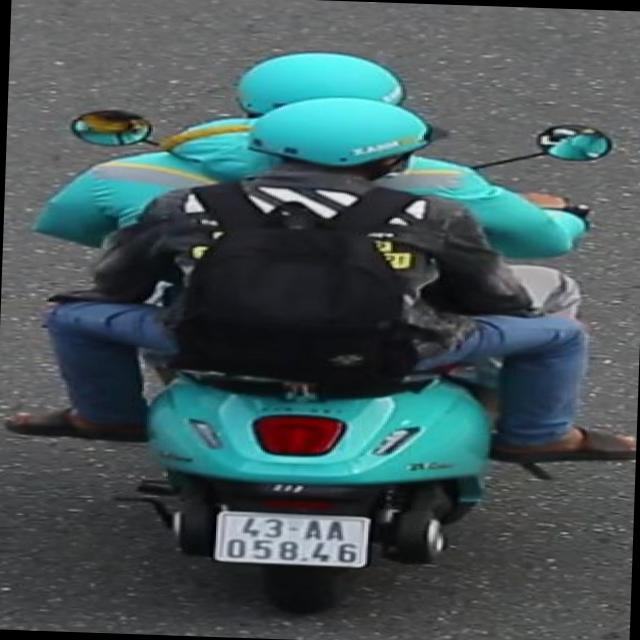LP: (209, 507, 376, 574)
helmet: (234, 92, 446, 206)
